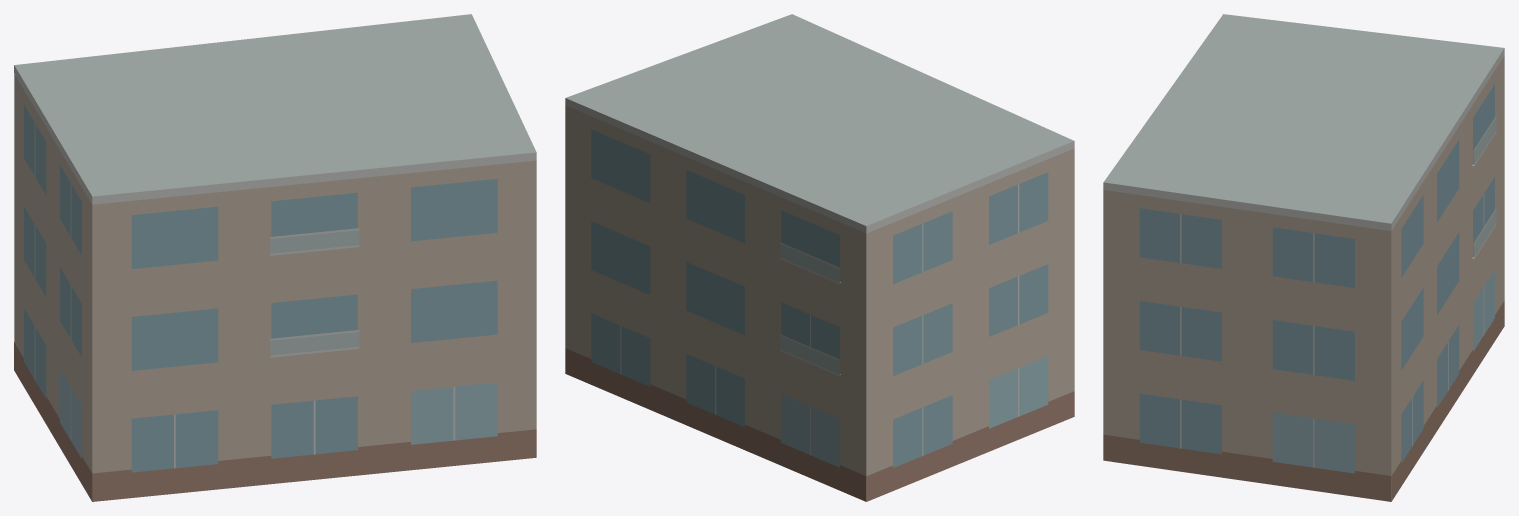
File: survey-upis-32508816.glb
The picture shows the model from 3 angles, left to right: view 1: azimuth 30°, elevation 25°; view 2: azimuth 150°, elevation 25°; view 3: azimuth 270°, elevation 25°; orthographic projection. The views are drawn at different scales.
Visible parts, largest first — view 1: survey-upis-32508816.tmp; view 2: survey-upis-32508816.tmp; view 3: survey-upis-32508816.tmp.
Boxes of the visible parts, x1,y1,x2,y2 form: survey-upis-32508816.tmp: (14,14,536,501); survey-upis-32508816.tmp: (565,14,1074,501); survey-upis-32508816.tmp: (1103,14,1504,501).
Bounding box in the file's own units: 14.8 × 9.15 × 11.97.
